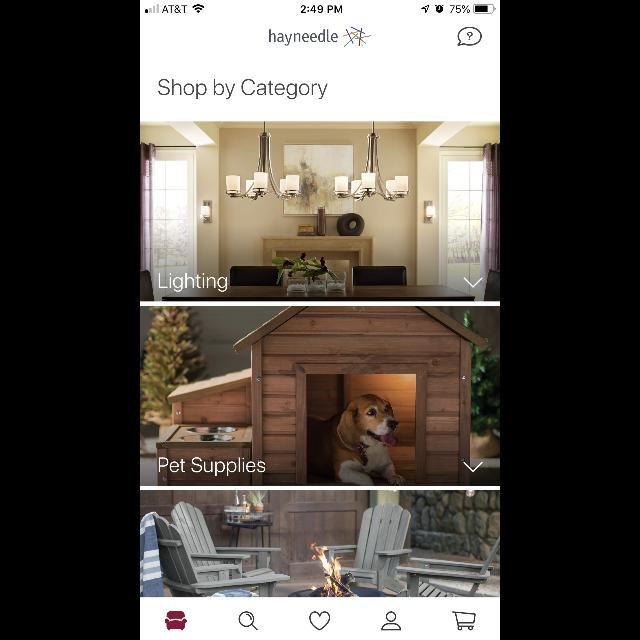icon: (452, 612, 476, 630), (458, 28, 482, 46), (381, 612, 401, 630), (310, 612, 330, 630), (238, 612, 258, 630), (463, 462, 482, 472), (463, 278, 482, 288)
image: (140, 306, 500, 486), (140, 121, 500, 301), (140, 490, 500, 598), (343, 27, 371, 47), (165, 612, 187, 630)
text: (158, 79, 328, 99), (159, 457, 265, 475), (159, 274, 227, 292), (269, 30, 337, 46)
uppertaskbar: (140, 0, 500, 14)
